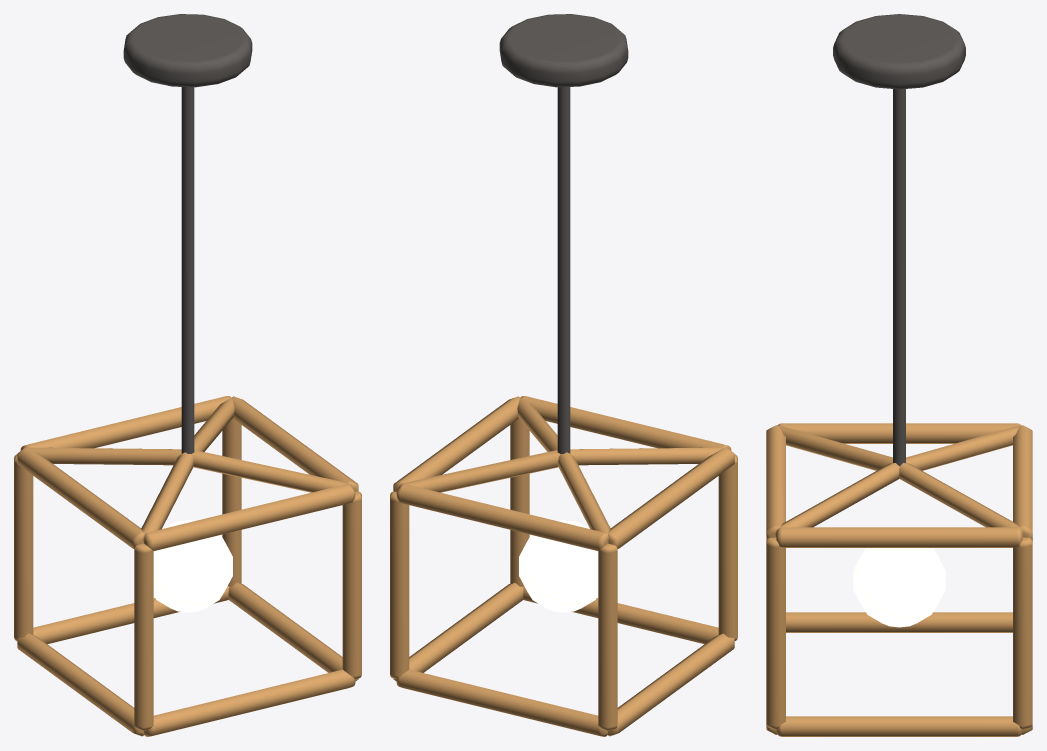
File: wood_frame_pendant.glb
3 views of the same model, side by side, from view 1: azimuth 30°, elevation 25°; view 2: azimuth 150°, elevation 25°; view 3: azimuth 270°, elevation 25° (orthographic). The views are drawn at different scales.
Parts seen in each view (by area): view 1: wood_frame_pendant_mesh; view 2: wood_frame_pendant_mesh; view 3: wood_frame_pendant_mesh.
Part boxes in pixels (x1,y1,x2,y2): wood_frame_pendant_mesh: (14,14,361,736); wood_frame_pendant_mesh: (390,14,737,736); wood_frame_pendant_mesh: (766,14,1032,736).
Size of the model in its own units: 0.284 by 0.752 by 0.2808.
